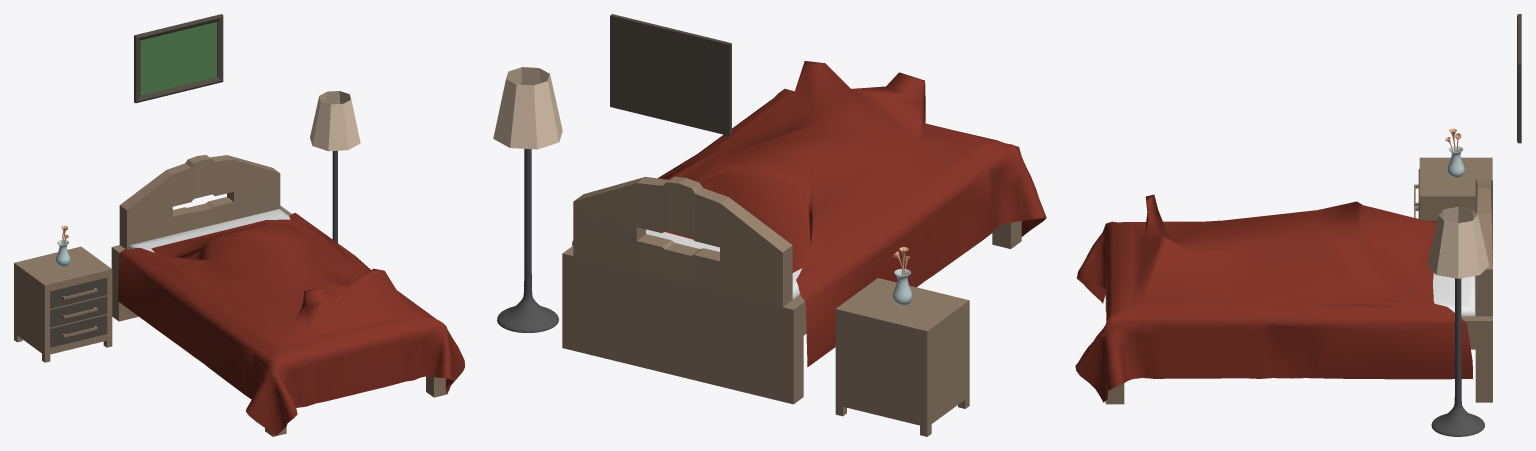
The model's file is Bedroom(1) 1.fbx.
3 renders of one model, left to right at view 1: azimuth 30°, elevation 25°; view 2: azimuth 150°, elevation 25°; view 3: azimuth 270°, elevation 25°, orthographic. The views are drawn at different scales.
Visible parts, largest first — view 1: Sheet, Bed, Nightstand, Plane, Lamp, Matt; view 2: Sheet, Bed, Nightstand, Plane, Lamp, Matt, Bottle; view 3: Sheet, Lamp, Bed, Nightstand, Matt, Plane.
Part boxes in pixels (x1,y1,x2,y2): Sheet: (118, 213, 464, 435); Bed: (111, 155, 446, 436); Nightstand: (14, 246, 112, 362); Plane: (134, 14, 223, 103); Lamp: (310, 91, 360, 242); Matt: (127, 209, 290, 252); Sheet: (572, 61, 1046, 366); Bed: (562, 176, 1021, 404); Nightstand: (835, 278, 969, 436); Plane: (610, 14, 731, 135); Lamp: (493, 67, 562, 332); Matt: (646, 229, 802, 299); Bottle: (892, 269, 911, 305); Sheet: (1075, 194, 1472, 402); Lamp: (1427, 207, 1489, 436); Bed: (1105, 179, 1492, 404); Nightstand: (1414, 157, 1492, 220); Matt: (1433, 273, 1475, 316); Plane: (1517, 14, 1521, 143).
Size of the model in its own units: 2454 by 1876 by 2438.
